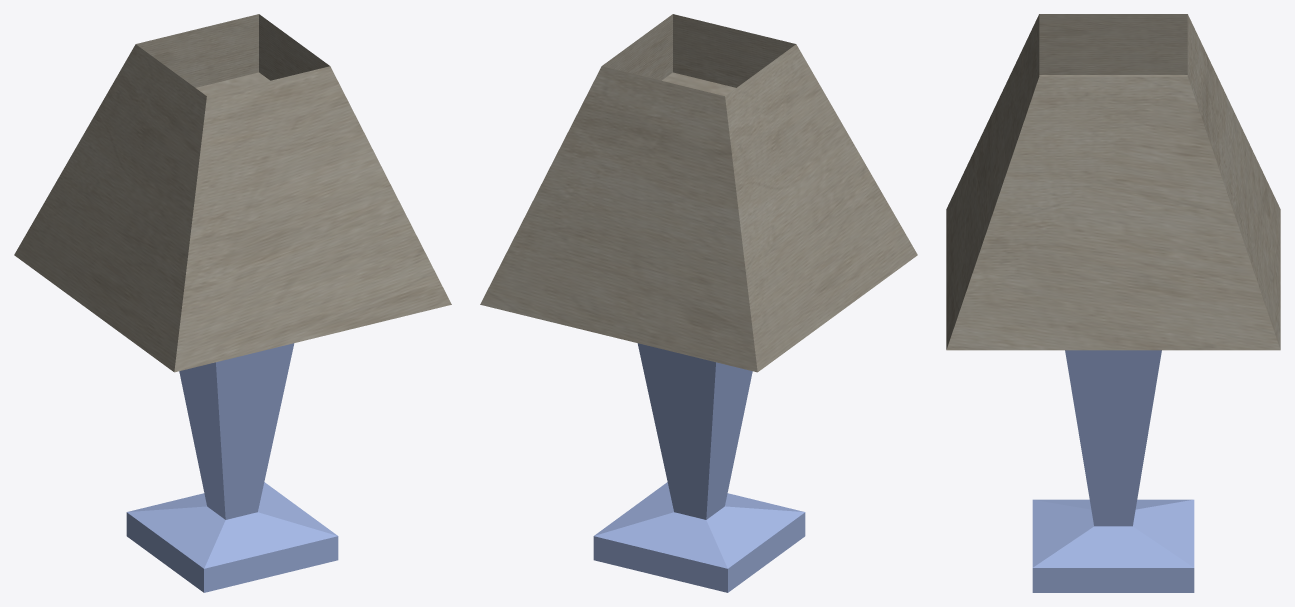
File: Lamp.fbx
3 views of the same model, side by side, from view 1: azimuth 30°, elevation 25°; view 2: azimuth 150°, elevation 25°; view 3: azimuth 270°, elevation 25° (orthographic). The views are drawn at different scales.
Visible parts, largest first — view 1: Cube.001, Cube; view 2: Cube.001, Cube; view 3: Cube.001, Cube.
Boxes of the visible parts, x1,y1,x2,y2 form: Cube.001: (14, 14, 451, 372); Cube: (126, 343, 338, 592); Cube.001: (480, 14, 917, 372); Cube: (593, 343, 805, 592); Cube.001: (946, 14, 1280, 350); Cube: (1032, 350, 1194, 592).
Bounding box in the file's own units: 130 × 220 × 130.
2 materials, 1 textured.
